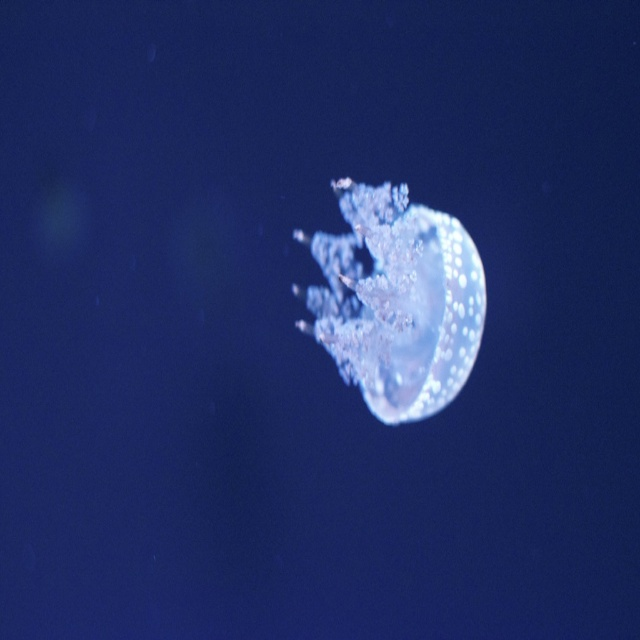Jellyfish: (280, 166, 475, 441)
